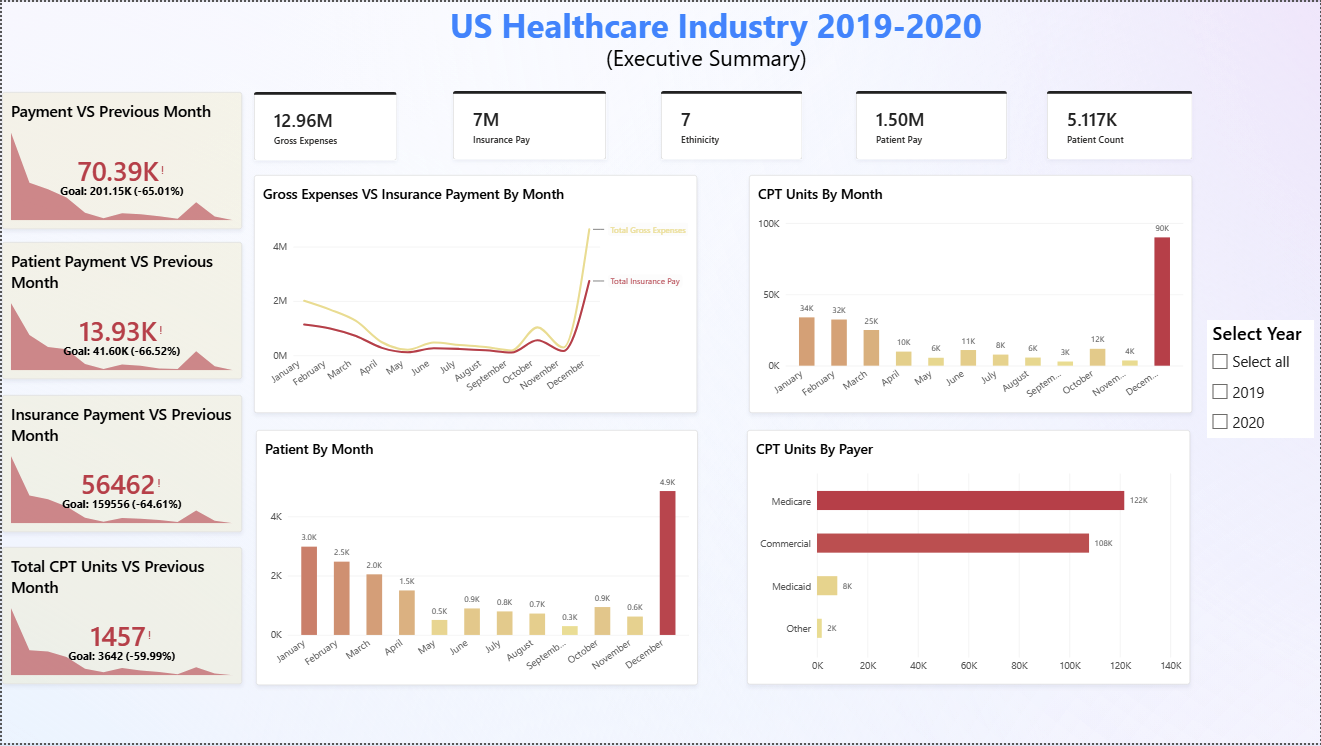

The page's visual inventory and layout, read from the dashboard file:
{"tool":"powerbi","page":{"name":"Executive Summary","canvas":[1920,1080],"ordinal":0},"visuals":[{"type":"textbox","box":[880.3,58.3,297.3,72.9],"z":0},{"type":"textbox","box":[652.8,0,869.1,84.2],"z":1000},{"type":"kpi","title":"Payment VS Previous Month","fields":{"Goal":["Measure / Calculations.Previous_Month_Pay"],"Indicator":["Measure / Calculations.TotalPayment"],"TrendLine":["DimDate.MonthPeriod"]},"box":[0,131.2,350,200],"z":2000},{"type":"kpi","title":"Patient Payment VS Previous Month","fields":{"Goal":["Measure / Calculations.Previous_Month_Patient_Pay"],"Indicator":["Measure / Calculations.TotalPatientpay"],"TrendLine":["DimDate.MonthPeriod"]},"box":[0,350.4,350,200],"z":3000},{"type":"kpi","title":"Insurance Payment VS Previous Month","fields":{"Goal":["Measure / Calculations.Previous_Month_Insurance_Pay"],"Indicator":["Measure / Calculations.Total Insurance Pay"],"TrendLine":["DimDate.MonthPeriod"]},"box":[0,572.6,350,200],"z":4000},{"type":"kpi","title":"Total CPT Units VS Previous Month","fields":{"Goal":["Measure / Calculations.Total_CPT_Units_Previous_Month"],"Indicator":["Measure / Calculations.Total CPT Units"],"TrendLine":["DimDate.MonthPeriod"]},"box":[0,794.9,350,200],"z":5000},{"type":"cardVisual","fields":{"Data":["Measure / Calculations.Total Gross Expenses"]},"box":[367.3,131.2,208.4,100.3],"z":6000},{"type":"cardVisual","fields":{"Data":["Measure / Calculations.Total Insurance Pay"]},"box":[657.5,130.3,223.8,100.3],"z":7000},{"type":"cardVisual","fields":{"Data":["Count(DimPatient.Ethinicity)"]},"box":[960.1,130.3,206.8,100.3],"z":8000},{"type":"cardVisual","fields":{"Data":["Measure / Calculations.TotalPatientpay"]},"box":[1244.8,130.3,220.7,100.3],"z":9000},{"type":"cardVisual","fields":{"Data":["CountNonNull(DimPatient.dimPatientPK)"]},"box":[1523.4,130.3,213,100.3],"z":10000},{"type":"lineChart","title":"Gross Expenses VS Insurance Payment By Month","fields":{"Category":["DimDate.Date.Variation.Date Hierarchy.Month","DimDate.Date.Variation.Date Hierarchy.Day"],"Y":["Measure / Calculations.Total Gross Expenses","Measure / Calculations.Total Insurance Pay"]},"box":[367.6,251.9,646.3,346.9],"z":11000},{"type":"clusteredColumnChart","title":"CPT Units By Month","fields":{"Category":["DimDate.Date.Variation.Date Hierarchy.Month","DimDate.Date.Variation.Date Hierarchy.Day"],"Y":["Measure / Calculations.Total CPT Units"]},"box":[1088.2,251.9,646.3,346.9],"z":12000},{"type":"clusteredBarChart","title":"CPT Units By Payer","fields":{"Category":["DimPayer.PayerName"],"Y":["Measure / Calculations.Total CPT Units"]},"box":[1086.2,623.6,646,371],"z":13000},{"type":"clusteredColumnChart","title":"Patient By Month","fields":{"Category":["DimDate.Date.Variation.Date Hierarchy.Month","DimDate.Date.Variation.Date Hierarchy.Day"],"Y":["Measure / Calculations.Distinct Patient"]},"box":[369.6,623.6,644.3,371.7],"z":14000},{"type":"slicer","fields":{"Values":["DimDate.Date.Variation.Date Hierarchy.Year"]},"box":[1756.3,463.5,156,172],"z":15000}]}

Visuals, with their boxes in screenshot pixels (x1, y1, x2, y2), scaled from the page's 1920x1080 canvas onto the 1321x746 screenshot:
textbox: <region>606, 40, 810, 91</region>
textbox: <region>449, 0, 1047, 58</region>
"Payment VS Previous Month" kpi: <region>0, 91, 241, 229</region>
"Patient Payment VS Previous Month" kpi: <region>0, 242, 241, 380</region>
"Insurance Payment VS Previous Month" kpi: <region>0, 396, 241, 534</region>
"Total CPT Units VS Previous Month" kpi: <region>0, 549, 241, 687</region>
cardVisual - Measure / Calculations.Total Gross Expenses: <region>253, 91, 396, 160</region>
cardVisual - Measure / Calculations.Total Insurance Pay: <region>452, 90, 606, 159</region>
cardVisual - Count(DimPatient.Ethinicity): <region>661, 90, 803, 159</region>
cardVisual - Measure / Calculations.TotalPatientpay: <region>856, 90, 1008, 159</region>
cardVisual - CountNonNull(DimPatient.dimPatientPK): <region>1048, 90, 1195, 159</region>
"Gross Expenses VS Insurance Payment By Month" lineChart: <region>253, 174, 698, 414</region>
"CPT Units By Month" clusteredColumnChart: <region>749, 174, 1193, 414</region>
"CPT Units By Payer" clusteredBarChart: <region>747, 431, 1192, 687</region>
"Patient By Month" clusteredColumnChart: <region>254, 431, 698, 687</region>
slicer - DimDate.Date.Variation.Date Hierarchy.Year: <region>1208, 320, 1316, 439</region>
